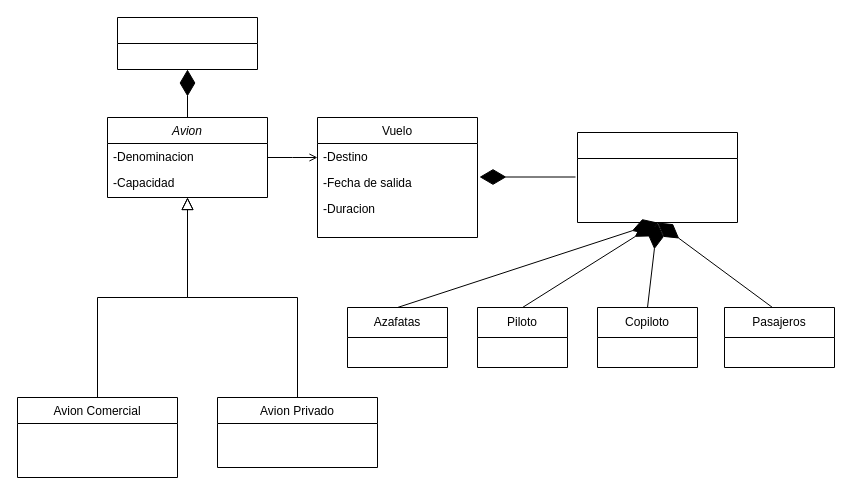
This 852x495 diagram has some shape labels left out. The centre of each missing label's shape, as x and y in pixels:
"Hangar" goes at (187,43).
"Tripulacion" goes at (657,177).
